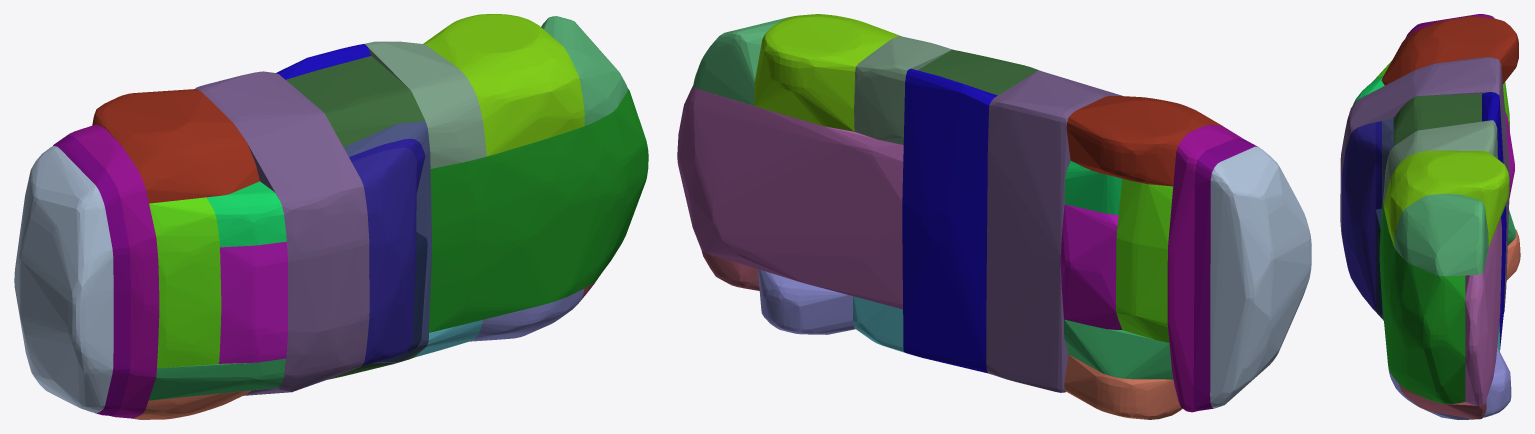
The model's file is coacd_collision.obj.
The picture shows the model from 3 angles, left to right: view 1: azimuth 30°, elevation 25°; view 2: azimuth 150°, elevation 25°; view 3: azimuth 270°, elevation 25°; orthographic projection. The views are drawn at different scales.
Visible parts, largest first — view 1: geometry_8, geometry_1, geometry_6, geometry_4, geometry_15, geometry_17, geometry_18, geometry_14, geometry_22, geometry_0, geometry_19, geometry_11 (+10 smaller); view 2: geometry_7, geometry_1, geometry_5, geometry_6, geometry_4, geometry_15, geometry_17, geometry_14, geometry_22, geometry_0, geometry_11, geometry_10 (+7 smaller); view 3: geometry_8, geometry_3, geometry_4, geometry_1, geometry_15, geometry_18, geometry_7, geometry_0, geometry_19, geometry_12, geometry_5, geometry_13 (+9 smaller).
Boxes of the visible parts, <box> form: geometry_8: <box>429,89,648,332</box>; geometry_1: <box>195,71,369,395</box>; geometry_6: <box>14,146,113,413</box>; geometry_4: <box>423,14,584,156</box>; geometry_15: <box>92,89,259,203</box>; geometry_17: <box>149,197,221,368</box>; geometry_18: <box>351,147,416,366</box>; geometry_14: <box>67,125,159,418</box>; geometry_22: <box>219,241,287,363</box>; geometry_0: <box>364,41,486,168</box>; geometry_19: <box>286,56,424,379</box>; geometry_11: <box>53,135,130,415</box>; geometry_7: <box>677,85,903,309</box>; geometry_1: <box>986,70,1122,392</box>; geometry_5: <box>902,68,997,373</box>; geometry_6: <box>1210,146,1311,408</box>; geometry_4: <box>754,14,900,131</box>; geometry_15: <box>1066,96,1222,186</box>; geometry_17: <box>1116,178,1173,342</box>; geometry_14: <box>1167,125,1243,412</box>; geometry_22: <box>1060,204,1121,329</box>; geometry_0: <box>854,36,952,144</box>; geometry_11: <box>1193,138,1257,410</box>; geometry_10: <box>1064,319,1173,379</box>; geometry_8: <box>1379,200,1465,403</box>; geometry_3: <box>1394,193,1488,276</box>; geometry_4: <box>1383,150,1509,246</box>; geometry_1: <box>1340,57,1510,312</box>; geometry_15: <box>1381,16,1518,85</box>; geometry_18: <box>1342,122,1375,311</box>; geometry_7: <box>1465,218,1501,405</box>; geometry_0: <box>1383,120,1497,204</box>; geometry_19: <box>1393,93,1481,146</box>; geometry_12: <box>1388,347,1511,419</box>; geometry_5: <box>1482,92,1506,349</box>; geometry_13: <box>1399,384,1486,419</box>.
Size of the model in its own units: 106 by 48.67 by 33.23.
